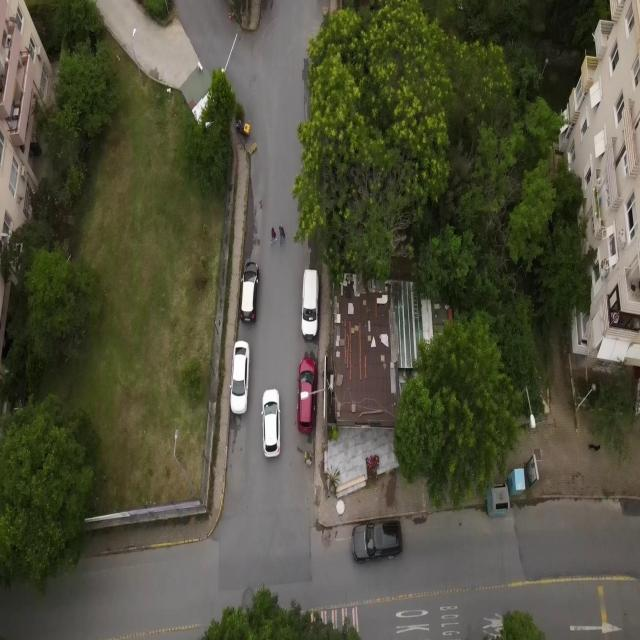p3rson: (279, 224, 285, 246), (270, 227, 277, 244)
